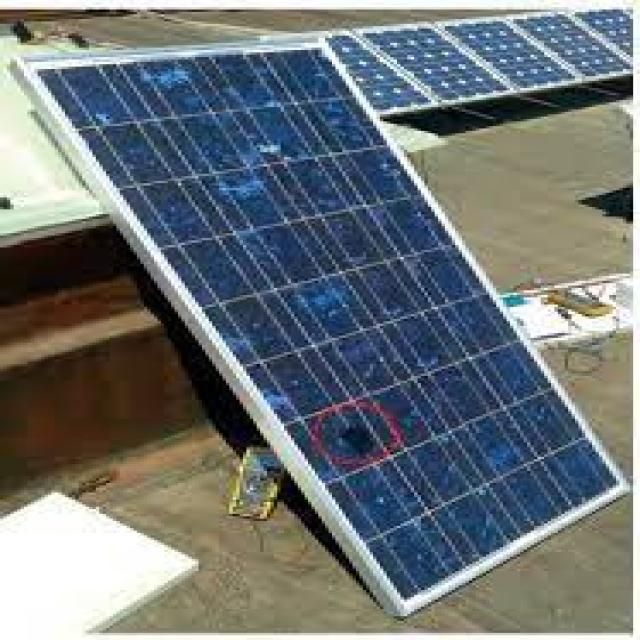faulty: (34, 36, 625, 604)
